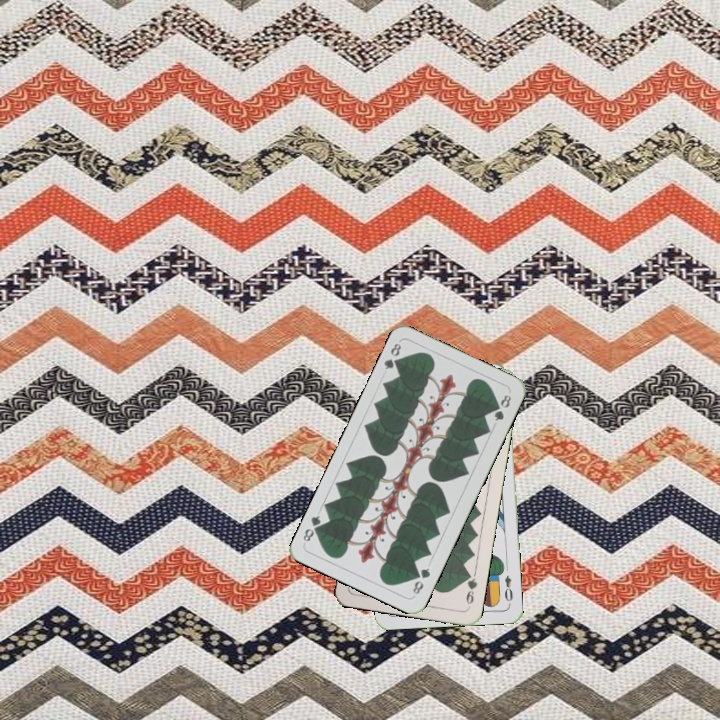EO: (500, 571, 516, 604)
G8: (409, 564, 433, 597), (380, 339, 404, 372)
G9: (462, 569, 480, 610)
